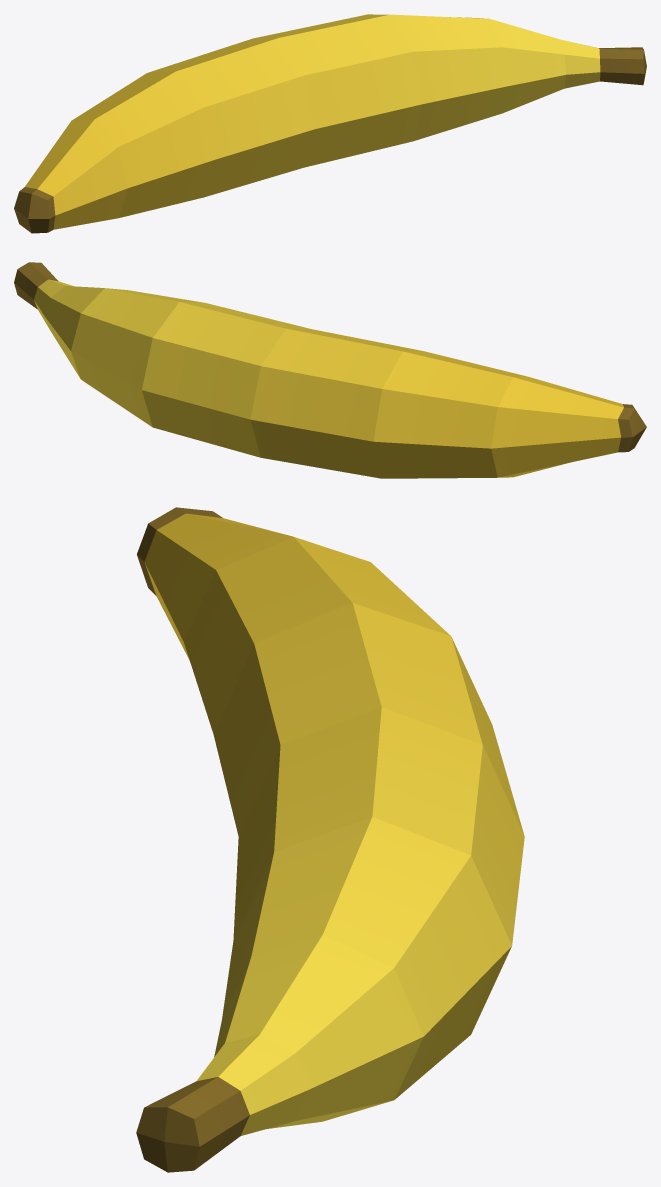
File: banana_1.glb
3 renders of one model, top to bottom at view 1: azimuth 30°, elevation 25°; view 2: azimuth 150°, elevation 25°; view 3: azimuth 270°, elevation 25°, orthographic. The views are drawn at different scales.
Parts seen in each view (by area): view 1: banana_1; view 2: banana_1; view 3: banana_1.
Part boxes in pixels (box(x1,y1,x2,y2)): banana_1: box(14, 14, 646, 233); banana_1: box(14, 262, 646, 478); banana_1: box(136, 507, 524, 1172).
Size of the model in its own units: 0.2123 by 0.0423 by 0.0574.
Materials: 1 (1 with a texture image).
